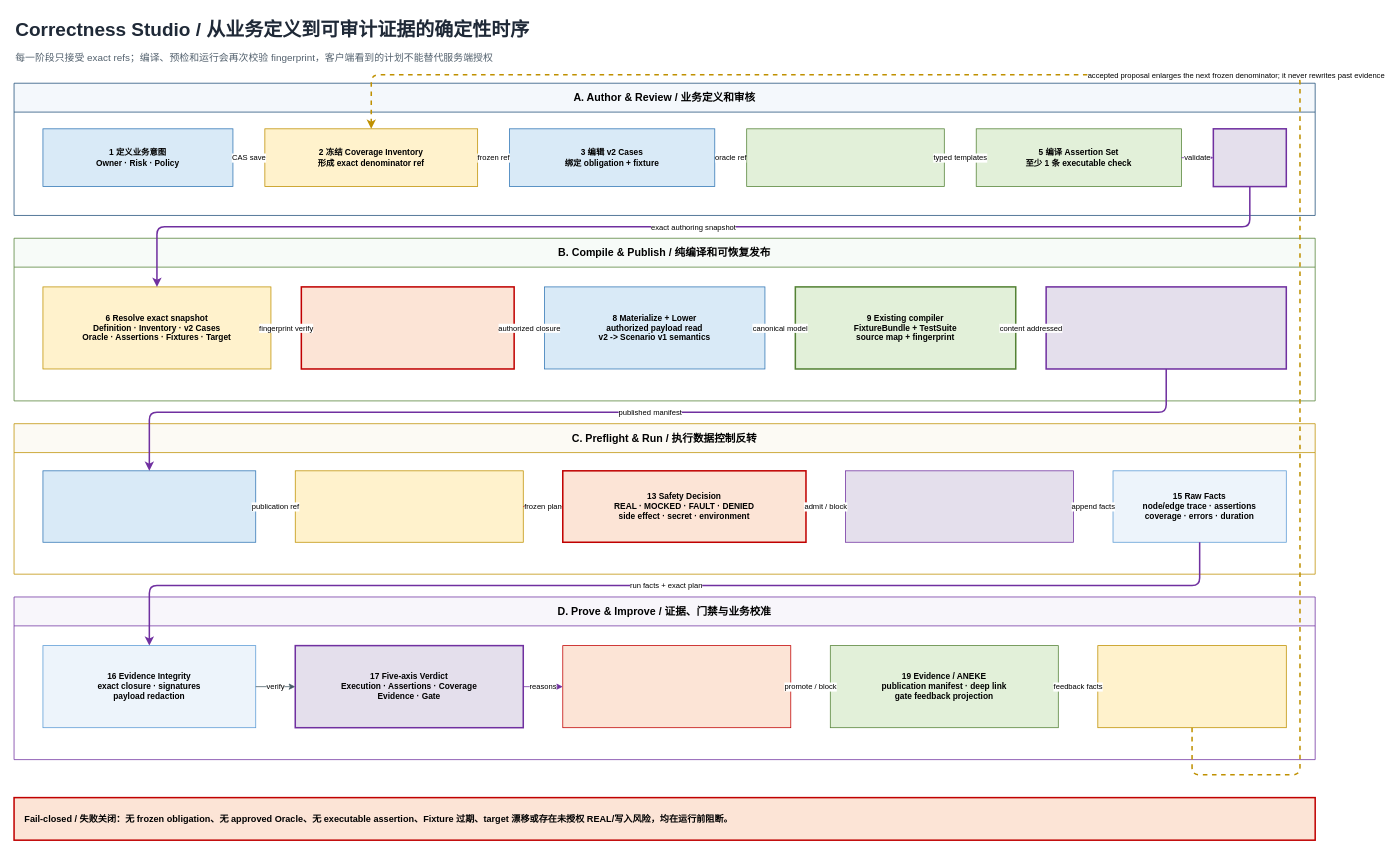
Some shapes in this 1398 by 853 pixel diagram are drawn without their labels. Each missing label, with the centre of its shape:
10 Publication Saga register -> read back -> verify immutable exact manifest: [1166,327]
11 Select exact Cases count + selection fingerprint: [149,506]
12 Server Preflight resolve publication + fixtures recompute plan fingerprint: [408,506]
14 Async Run frozen EffectiveExecutionPlan no mutable repository lookup: [959,506]
18 Focused Diagnosis expected/actual · first failure root-cause cluster: [676,686]
20 Outcome Proposal incident · complaint · override human review only: [1191,686]
4 审核 Oracle 批准业务预期与依据: [845,157]
7 Authority validation frozen · approved · canonical zero assertion -> BLOCK: [407,327]
Review Ready exact closure: [1249,157]
